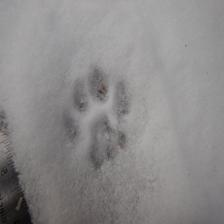puma: (86, 81, 138, 154)
